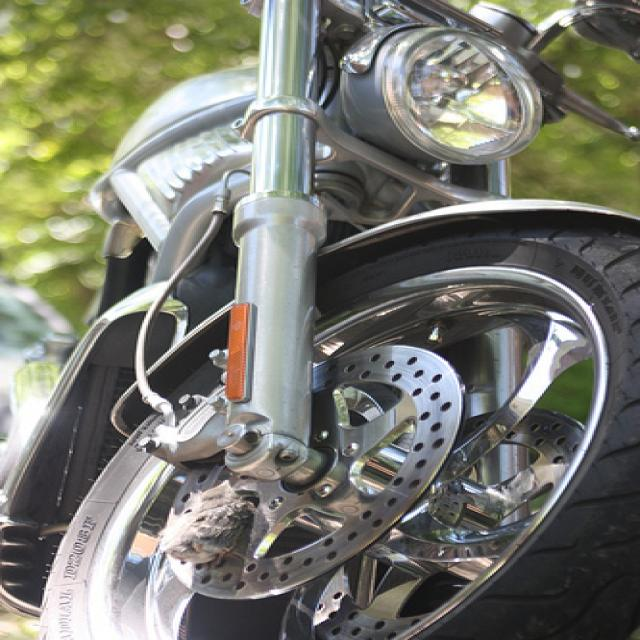motor: (0, 3, 640, 633)
